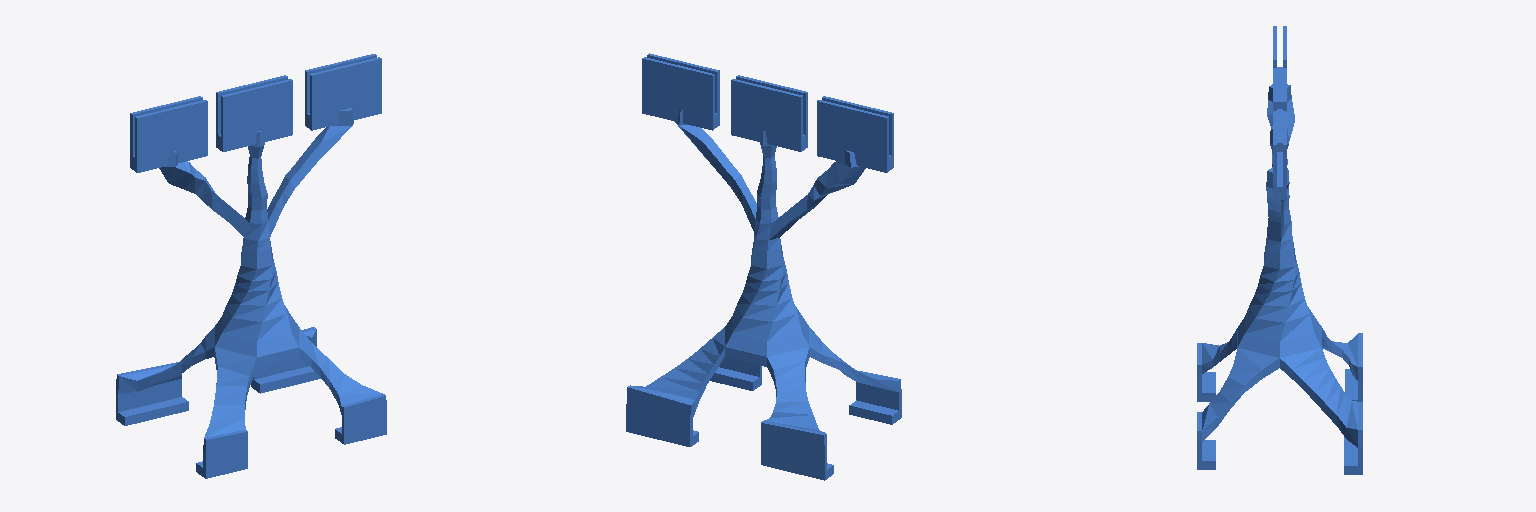
The model's file is Tree_the_sign_holder.obj.
3 views of the same model, side by side, from view 1: azimuth 30°, elevation 25°; view 2: azimuth 150°, elevation 25°; view 3: azimuth 270°, elevation 25° (orthographic).
Parts seen in each view (by area): view 1: NGon001; view 2: NGon001; view 3: NGon001.
Boxes of the visible parts, box(x1,y1,x2,y2) form: NGon001: box(116, 54, 386, 478); NGon001: box(626, 53, 901, 480); NGon001: box(1197, 26, 1362, 474).
Size of the model in its own units: 5.49 by 7.31 by 3.24.